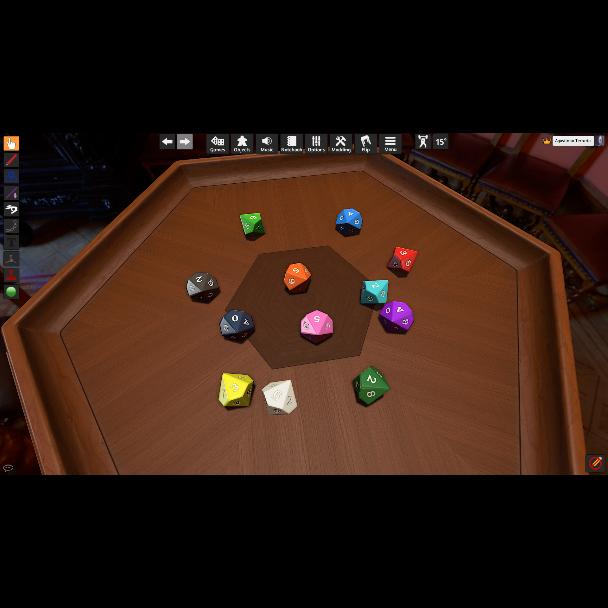d10: (353, 368, 389, 406), (262, 378, 298, 414), (218, 372, 253, 406), (299, 310, 333, 344), (218, 310, 252, 342), (384, 301, 414, 333), (188, 271, 218, 301), (284, 262, 310, 294), (335, 208, 361, 238), (387, 247, 415, 273), (360, 280, 386, 306), (240, 212, 264, 235)
